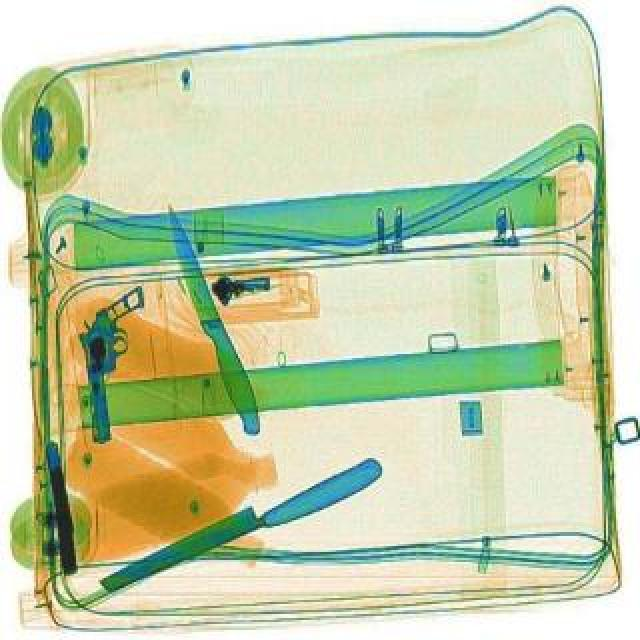gun: (74, 282, 158, 442), (40, 436, 80, 574)
knife: (96, 450, 388, 604), (156, 200, 268, 436)
